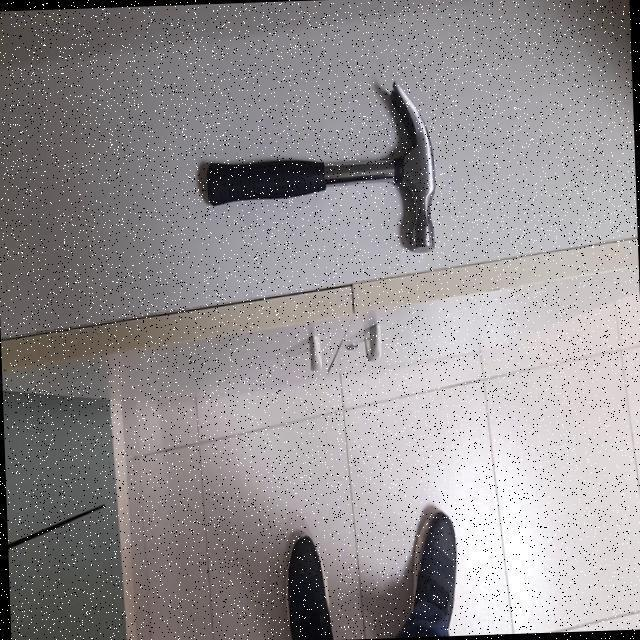hammer: (202, 88, 434, 252)
